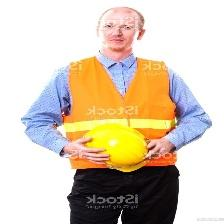Person: (34, 2, 211, 218)
no-helmet: (95, 2, 151, 25)
vest: (63, 54, 182, 169)
